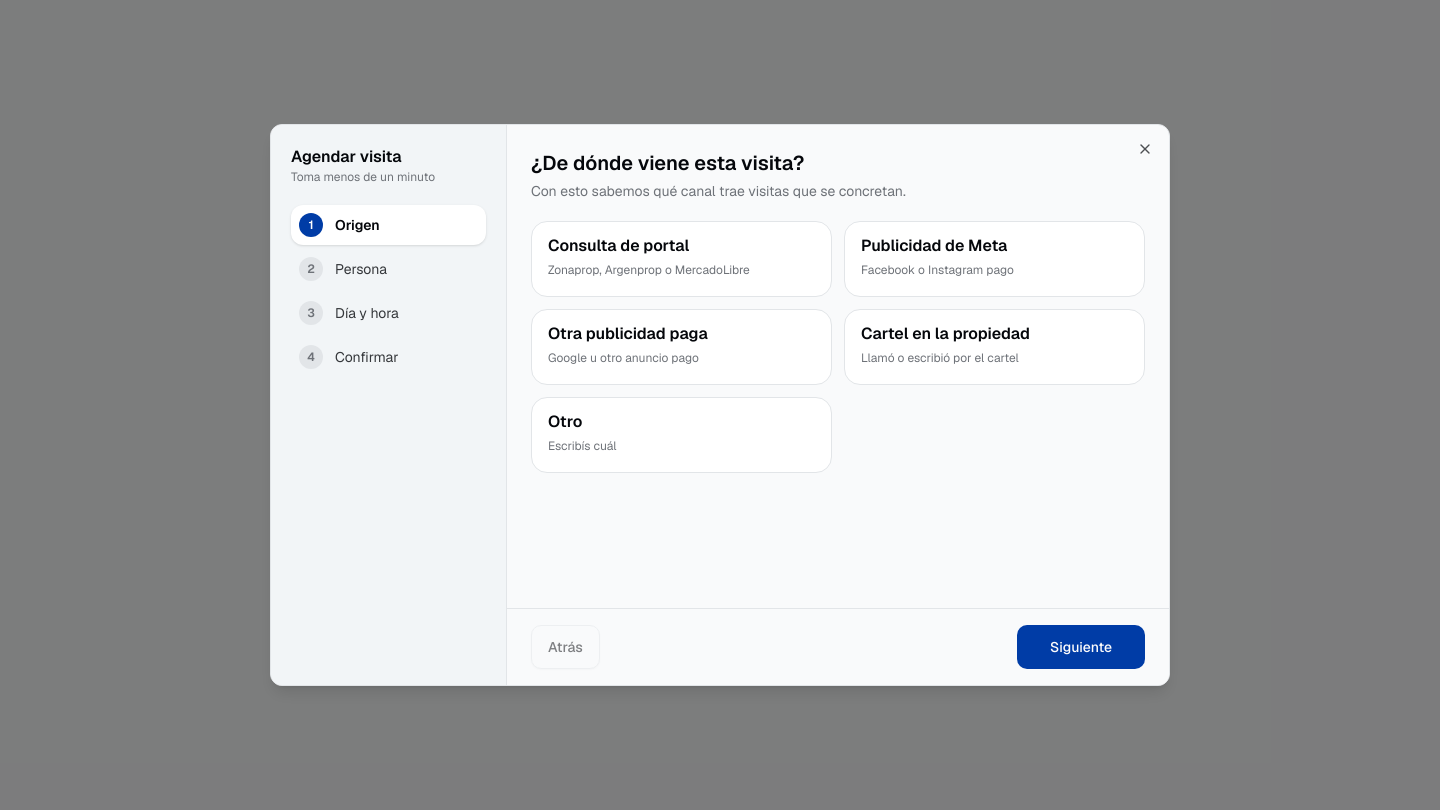
Test: AgendarVisitaDialog › consulta de portal → lista quienes consultaron
The image size is (1440, 810).
Click the button "Consulta de portal Zonaprop, Argenprop o MercadoLibre". click: (682, 259)
box: [531,221,832,297]
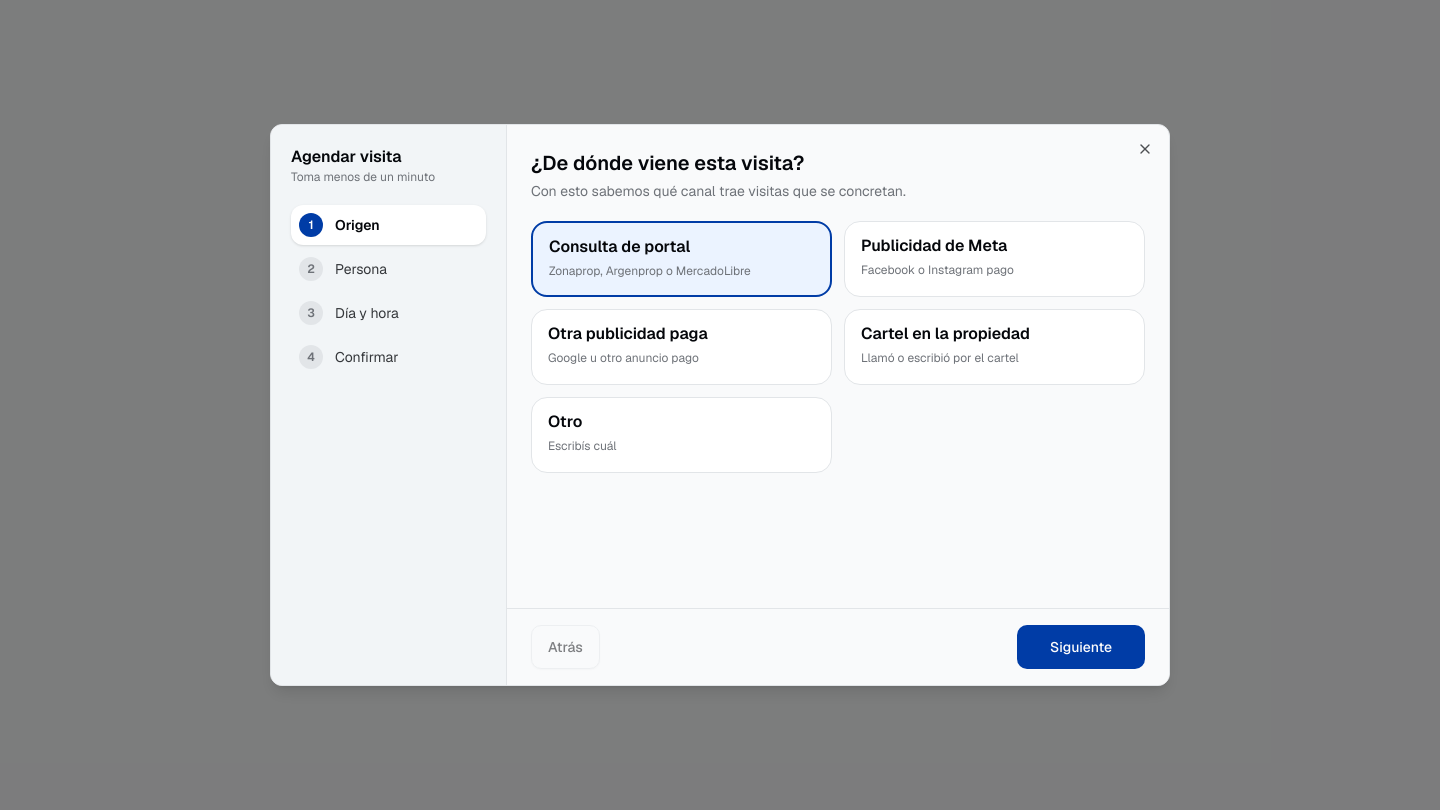
Click the button "Siguiente". click: (1081, 647)
box: [1017,625,1145,669]
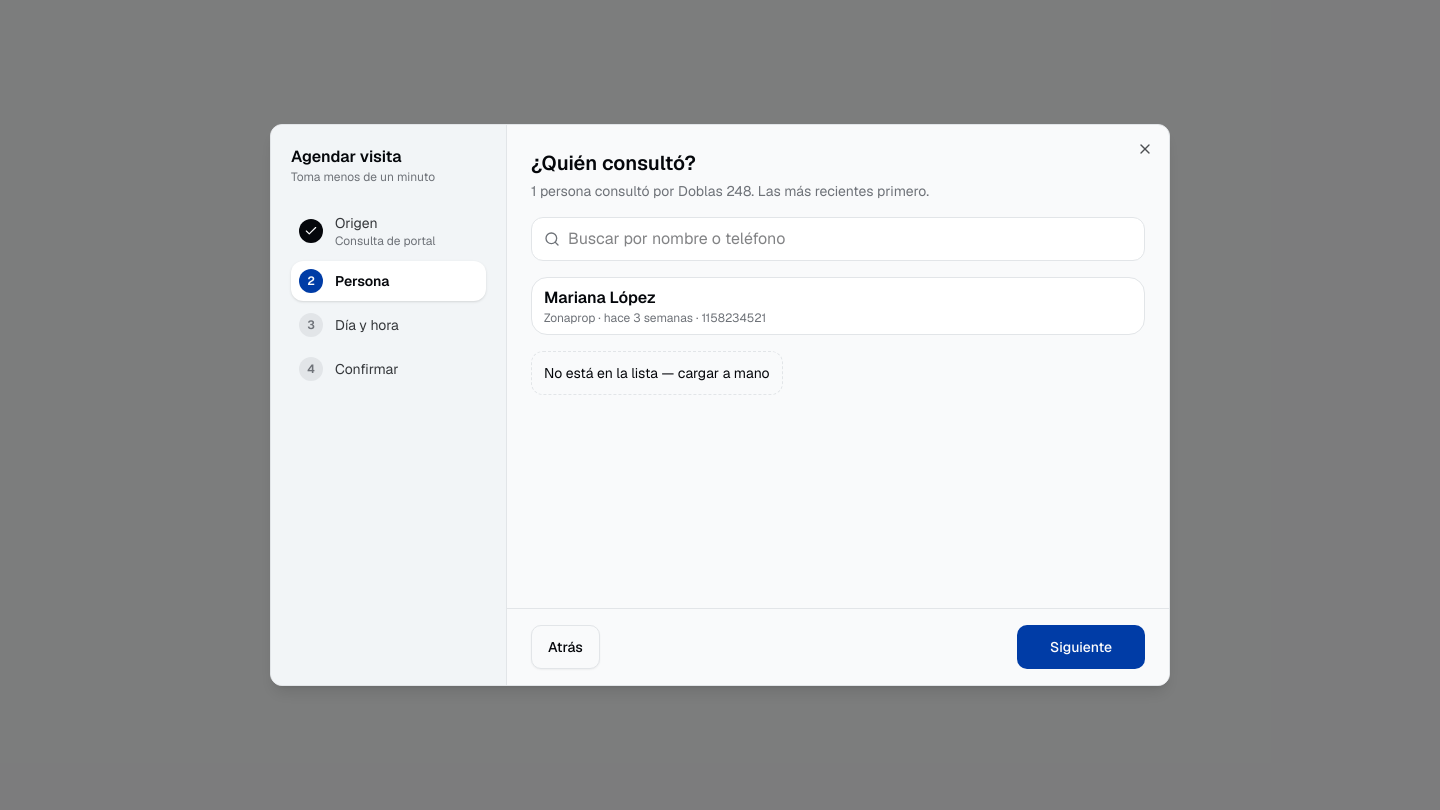
Expected: the heading "¿Quién consultó?" is shown, [531,150,696,176]
Expected: the text "Mariana López" is shown, [544,287,656,308]
